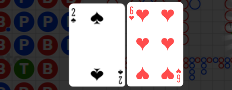10H: (174, 66, 181, 83)
AC: (117, 68, 124, 85)
